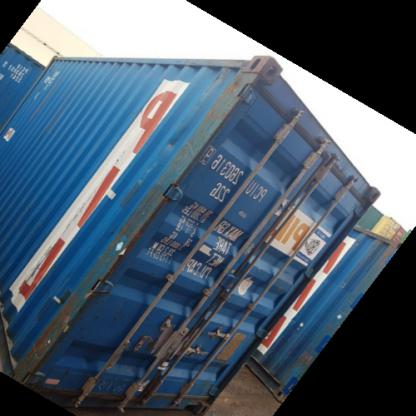Damage: (72, 213, 161, 290), (140, 133, 213, 213), (10, 298, 87, 368), (199, 61, 255, 134), (86, 365, 130, 402)
